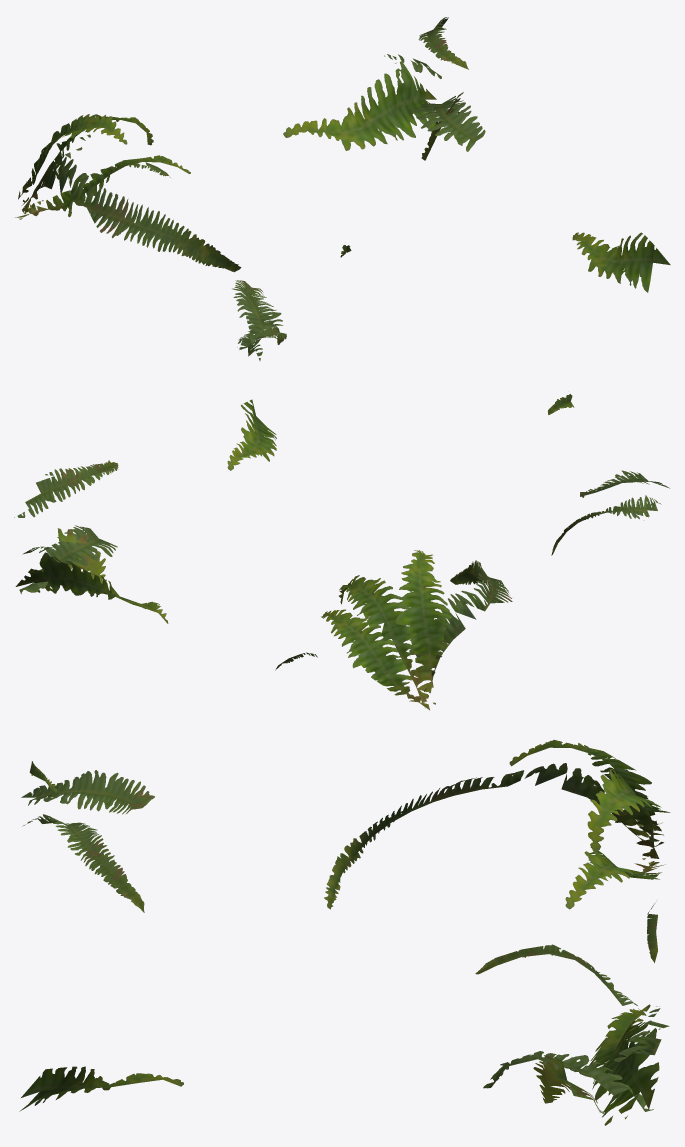
The model's file is fern_02.glb.
3 views of the same model, one above another, from view 1: azimuth 30°, elevation 25°; view 2: azimuth 150°, elevation 25°; view 3: azimuth 270°, elevation 25° (orthographic). The views are drawn at different scales.
Visible parts, largest first — view 1: fern_02; view 2: fern_02; view 3: fern_02.
Boxes of the visible parts, left/top/right/bottom form: fern_02: left=15, top=17, right=670, bottom=360; fern_02: left=14, top=394, right=669, bottom=710; fern_02: left=19, top=740, right=670, bottom=1125.
Size of the model in its own units: 2.21 by 0.65 by 2.21.
1 material, 1 textured.
